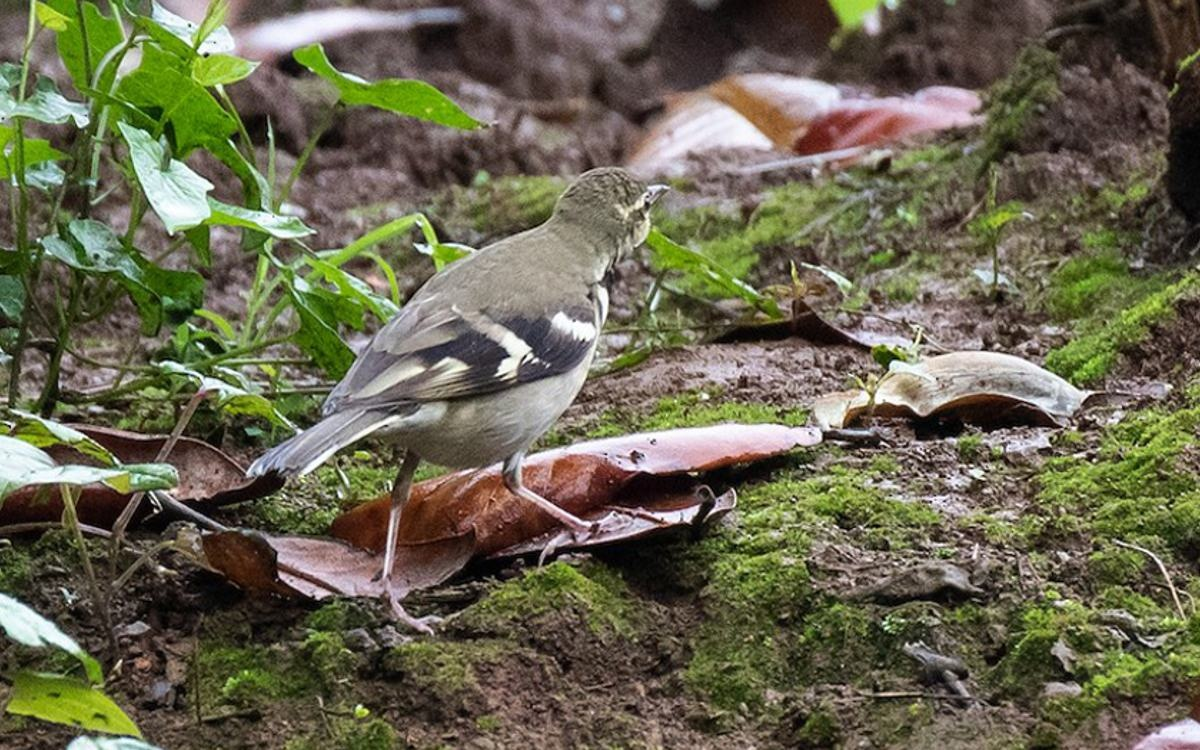wagtail: (303, 147, 675, 490)
